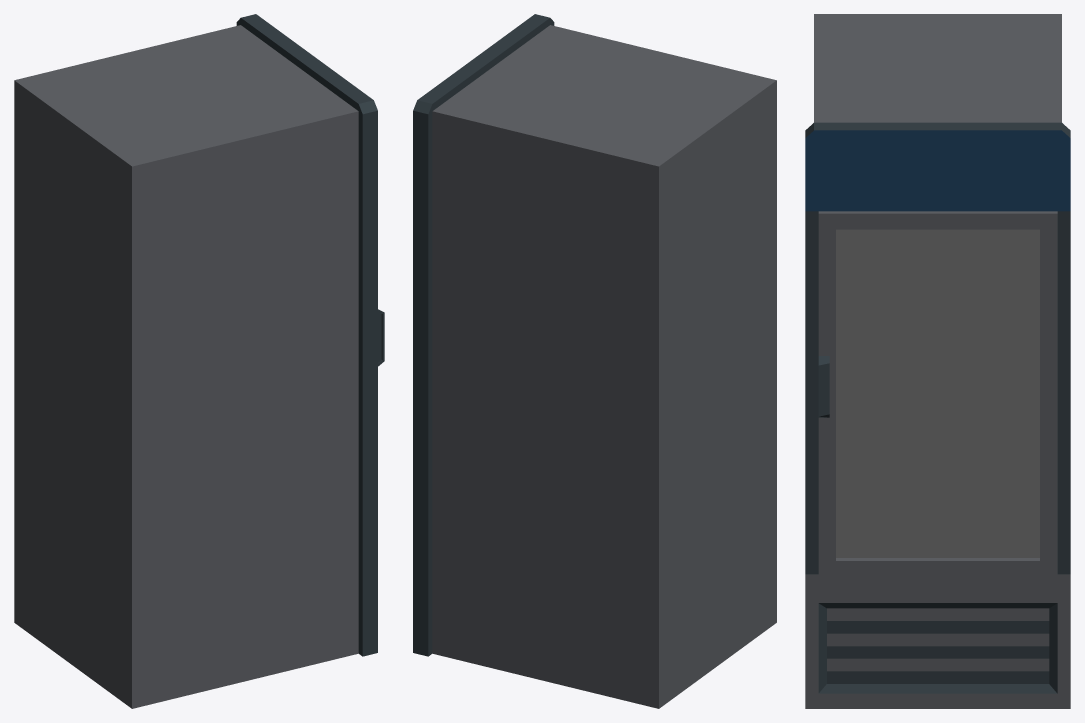
Rendered from FridgeDrinks01.fbx.
The picture shows the model from 3 angles, left to right: view 1: azimuth 30°, elevation 25°; view 2: azimuth 150°, elevation 25°; view 3: azimuth 270°, elevation 25°; orthographic projection. The views are drawn at different scales.
Parts seen in each view (by area): view 1: FridgeDrinks01; view 2: FridgeDrinks01; view 3: FridgeDrinks01, FridgeDrinks01Door.
Part boxes in pixels (x1=…): FridgeDrinks01: x1=14, y1=14, x2=377, y2=708; FridgeDrinks01: x1=413, y1=14, x2=776, y2=708; FridgeDrinks01: x1=805, y1=14, x2=1070, y2=708; FridgeDrinks01Door: x1=818, y1=211, x2=1057, y2=576.
Bounding box in the file's own units: 111 × 229 × 94.99.
